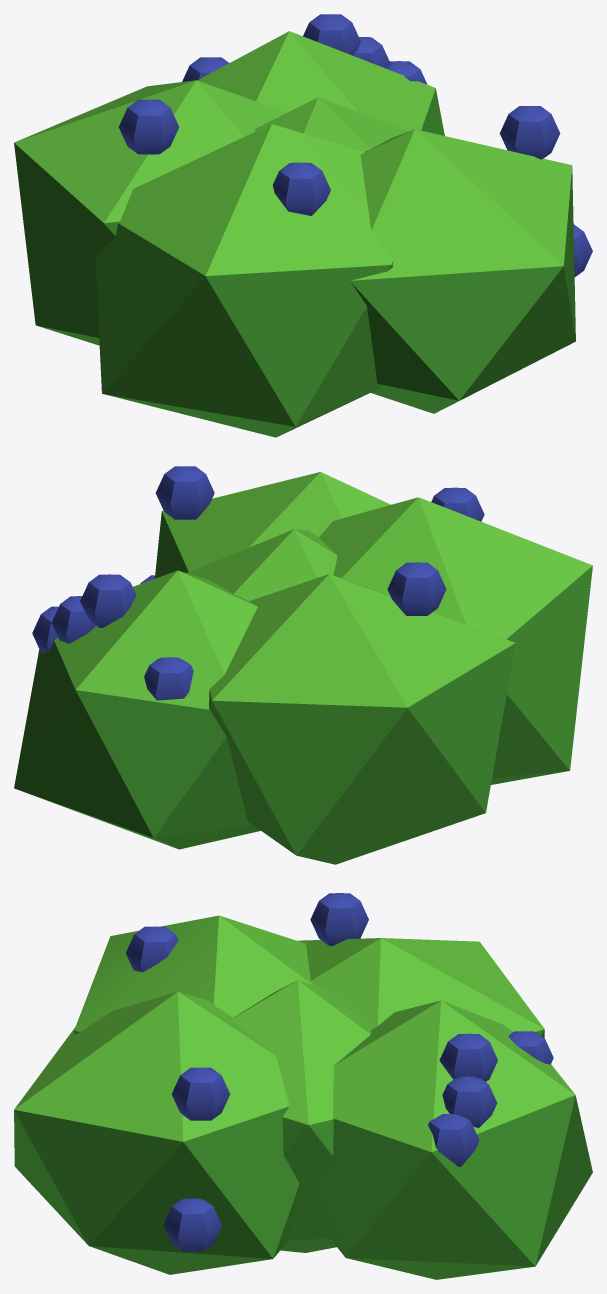
The model's file is BerryBush.fbx.
3 views of the same model, one above another, from view 1: azimuth 30°, elevation 25°; view 2: azimuth 150°, elevation 25°; view 3: azimuth 270°, elevation 25° (orthographic). The views are drawn at different scales.
Parts seen in each view (by area): view 1: BerryBush; view 2: BerryBush; view 3: BerryBush.
Part boxes in pixels (box(x1,y1,x2,y2)): BerryBush: box(14, 14, 592, 437); BerryBush: box(14, 466, 592, 864); BerryBush: box(14, 893, 592, 1279).
Bounding box in the file's own units: 3.52 × 2.27 × 3.94.
1 material, 1 textured.
